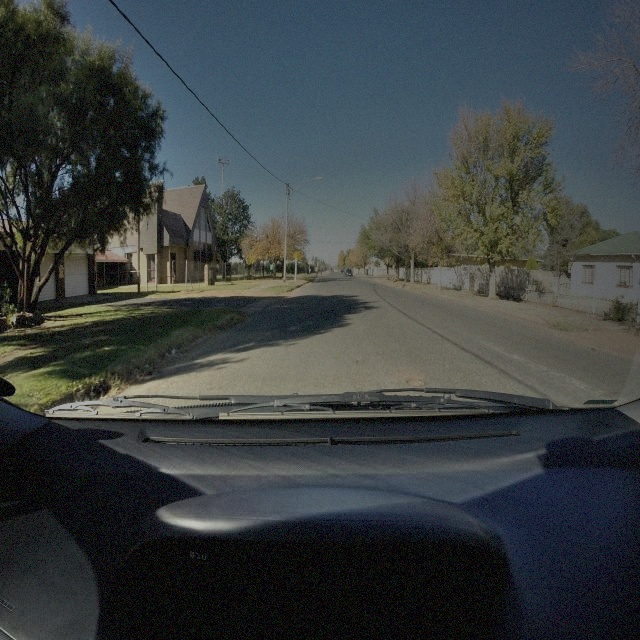pothole: (407, 375, 426, 391)
